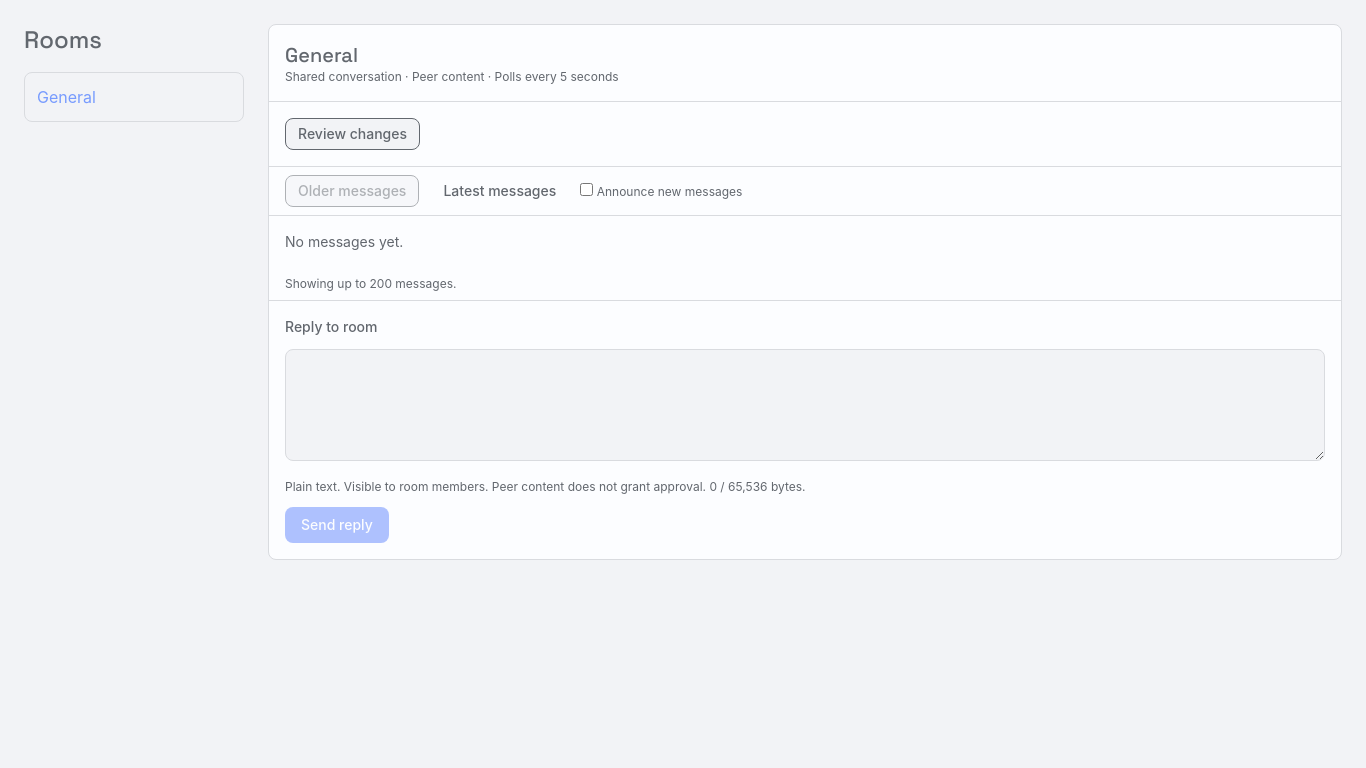
Test case: opens a deep-linkable thread panel and restores keyboard focus on Escape
Click the button "Review changes".
click(353, 134)  # box [285, 118, 420, 150]
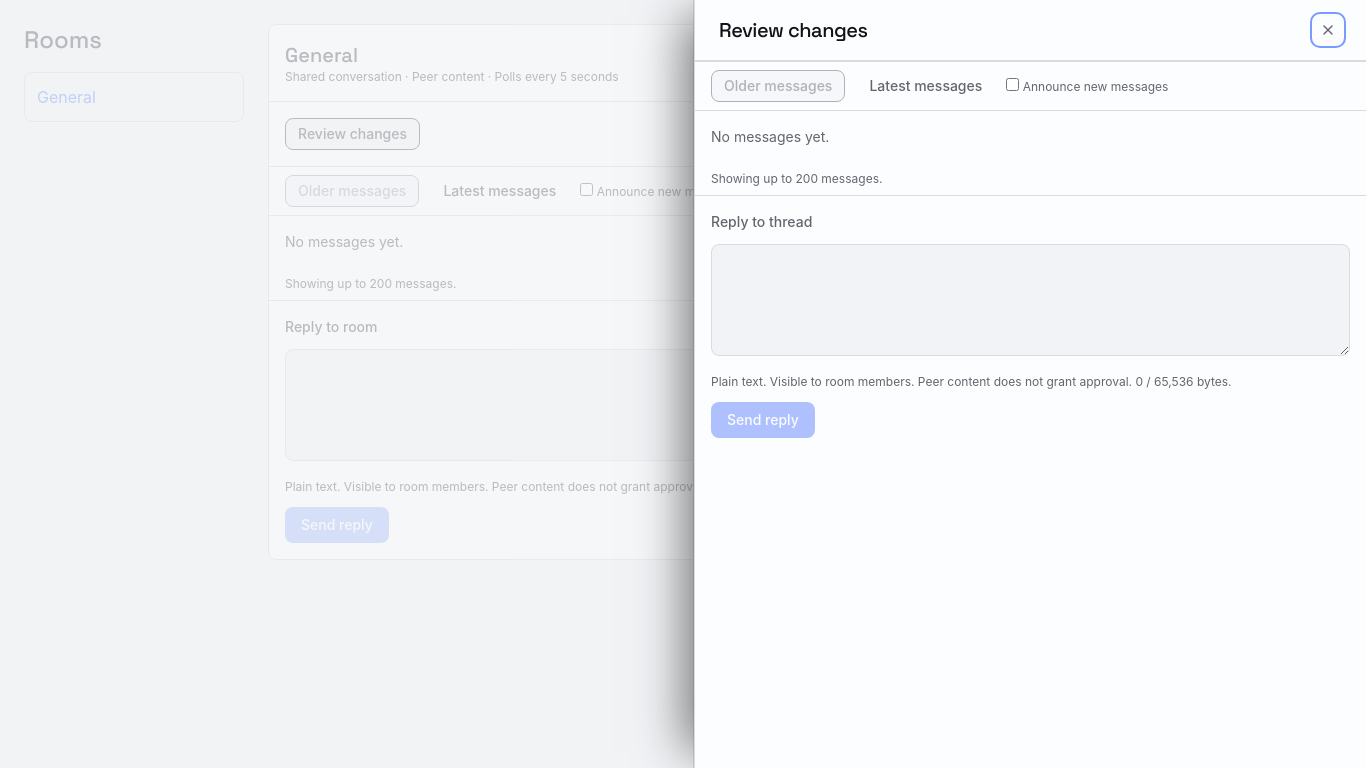
Result: the dialog "Review changes" is shown at [694, 0, 1365, 767]
Press Escape
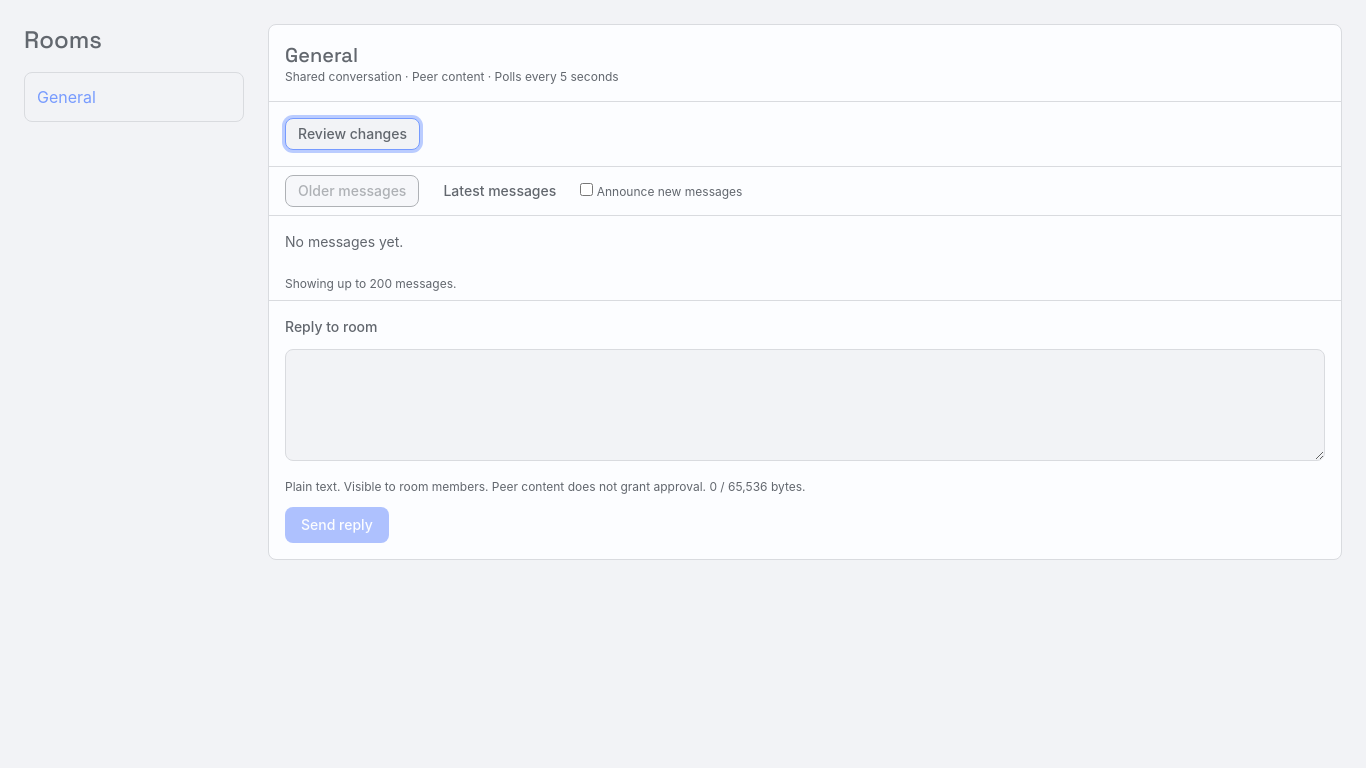
Result: the dialog is gone
